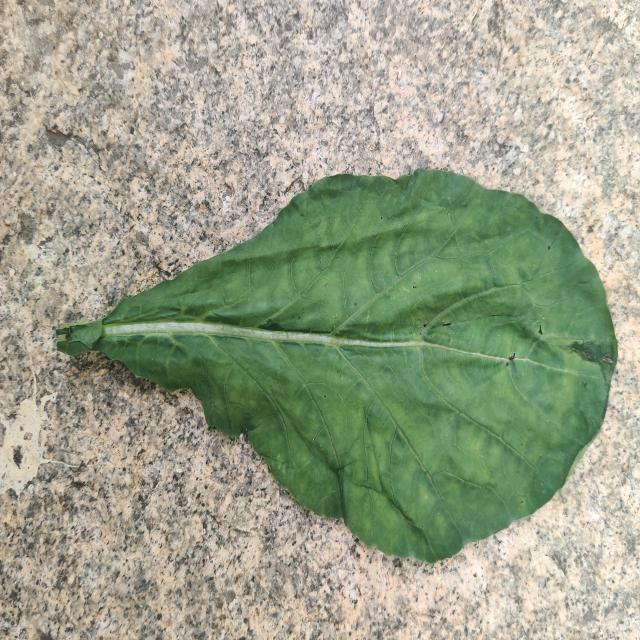leaf: (54, 166, 618, 564)
